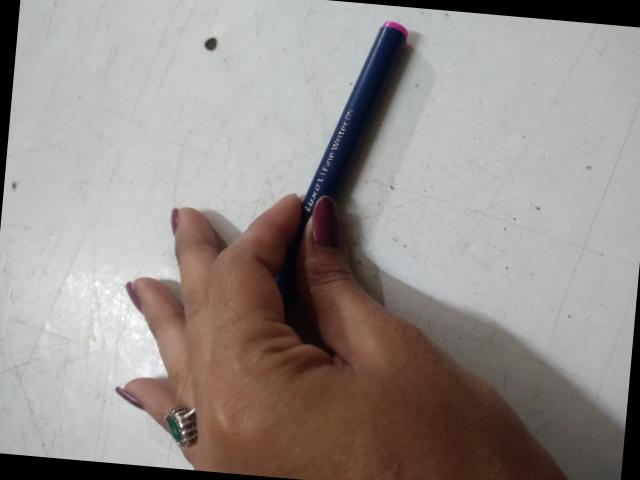PEN: (148, 224, 480, 459)
